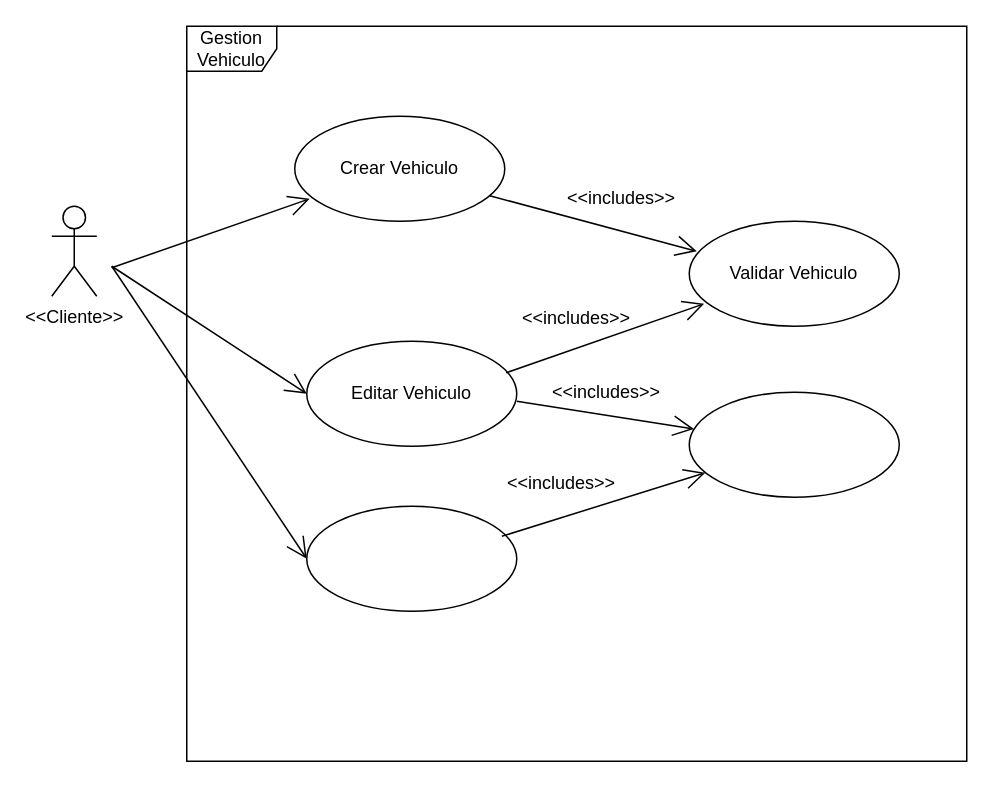
Some shapes in this 993 by 788 pixel diagram are drawn without their labels. Each missing label, with the centre of its shape:
"Borrar Vehiculo" goes at point (411, 558).
"Buscar Vehiculo" goes at point (793, 444).
